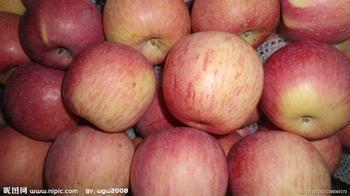apple: (159, 29, 262, 132), (54, 35, 158, 130), (256, 36, 347, 135), (220, 120, 332, 194), (124, 124, 225, 192), (45, 118, 133, 191), (102, 2, 191, 66), (22, 3, 101, 68), (6, 64, 71, 138), (190, 1, 281, 38), (273, 1, 346, 43)
